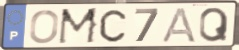7: (133, 7, 162, 44)
A: (160, 6, 198, 44)
C: (98, 8, 128, 43)
M: (56, 7, 101, 46)
O: (28, 9, 61, 45)
Q: (198, 6, 230, 43)
